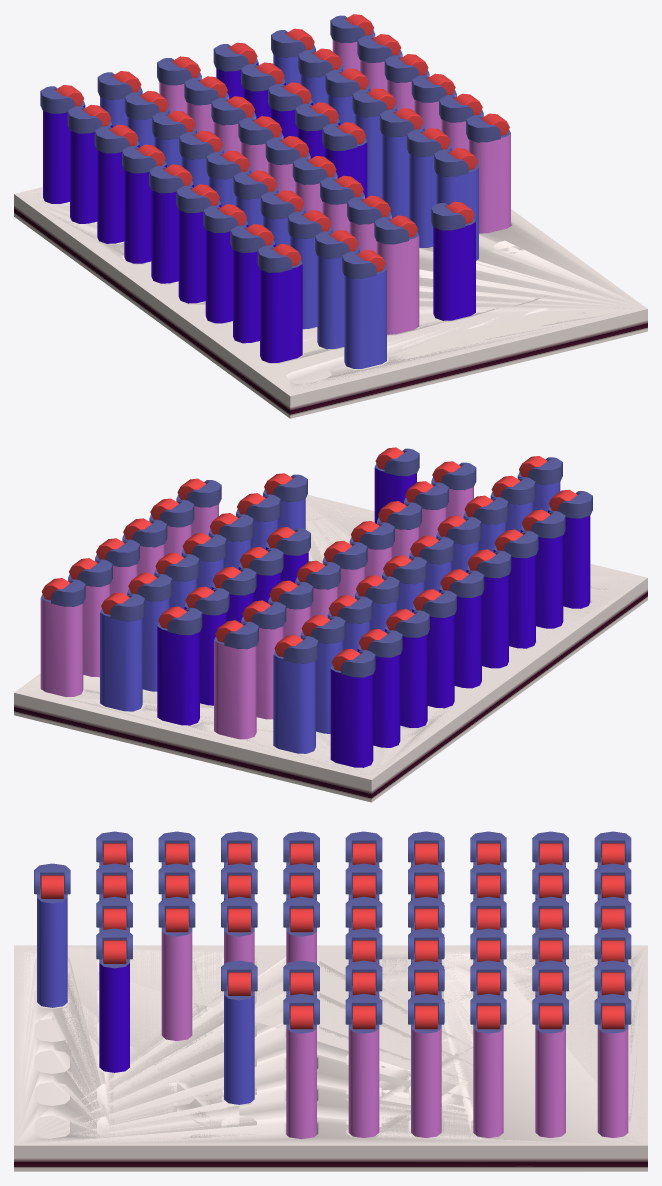
The model's file is Lighter_x60.fbx.
3 renders of one model, top to bottom at view 1: azimuth 30°, elevation 25°; view 2: azimuth 150°, elevation 25°; view 3: azimuth 270°, elevation 25°, orthographic. The views are drawn at different scales.
Parts seen in each view (by area): view 1: Lighter_01; view 2: Lighter_01; view 3: Lighter_01.
Boxes of the visible parts, x1=… form: Lighter_01: x1=14, y1=14, x2=647, y2=418; Lighter_01: x1=14, y1=447, x2=647, y2=802; Lighter_01: x1=14, y1=831, x2=647, y2=1171.
Bounding box in the file's own units: 28.85 × 10 × 38.61.
